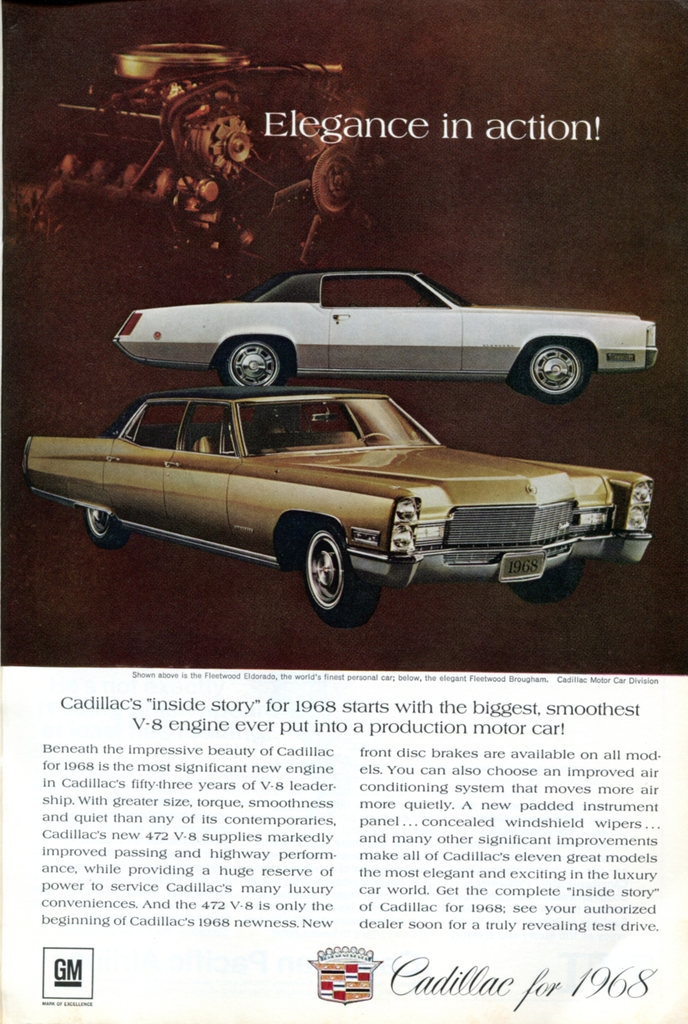Car: (23, 378, 656, 630), (110, 264, 663, 409)
